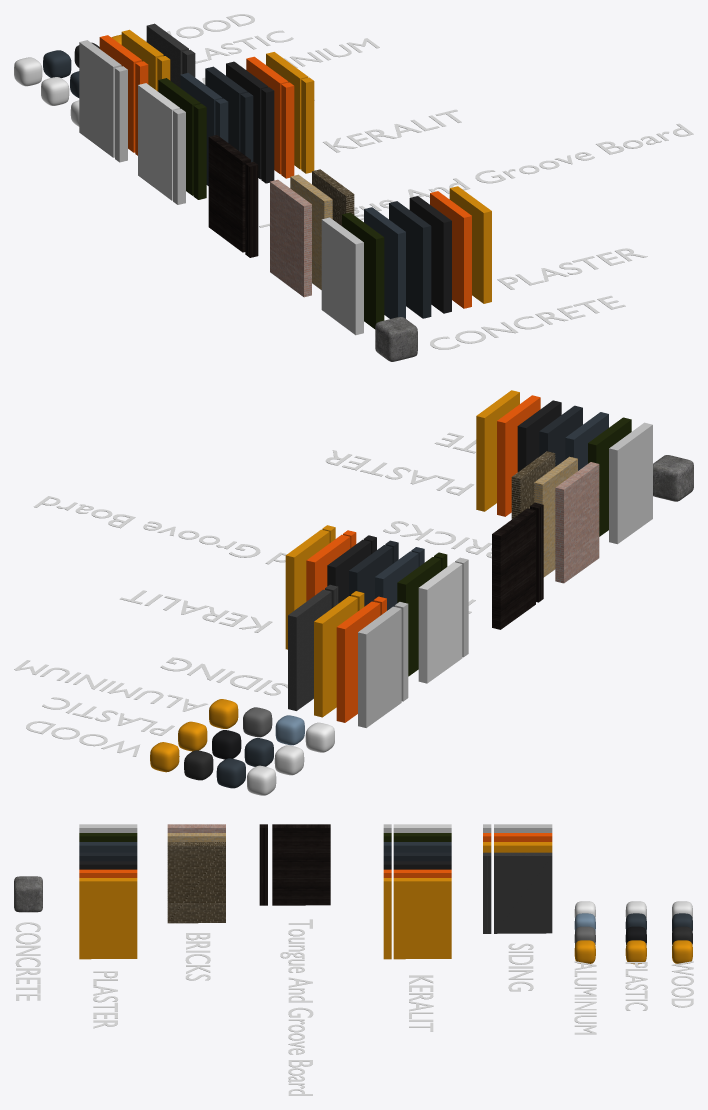
File: Materials1.gltf
The picture shows the model from 3 angles, top to bottom: view 1: azimuth 30°, elevation 25°; view 2: azimuth 150°, elevation 25°; view 3: azimuth 270°, elevation 25°; orthographic projection. The views are drawn at different scales.
Visible parts, largest first — view 1: SM_Keralit_Black.008, SM_Keralit_Black.005, SM_T_TongueGrooveBoard, SM_SidingWhite, SM_Keralit_Black, SM_Keralit_Black.015, SM_Keralit_Black.016, SM_Keralit_Black.014, SM_Keralit_Black.013, SM_Keralit_Black.018, SM_Keralit_Black.017, Text.005 (+29 smaller); view 2: SM_Keralit_Black.005, SM_Keralit_Black, SM_T_TongueGrooveBoard, SM_Keralit_Black.008, SM_SidingWhite, SM_SidingWhite.003, SM_SidingWhite.002, SM_SidingWhite.001, SM_Keralit_Black.018, SM_Keralit_Black.017, SM_Keralit_Black.006, SM_Keralit_Black.012 (+34 smaller); view 3: SM_T_TongueGrooveBoard, SM_SidingWhite.003, SM_Keralit_Black.007, SM_Keralit_Black.012, SM_Keralit_Black.018, Text.005, Concrete, Text.008, Text.002, Text.007, Plane.009, Plane.003 (+26 smaller).
Part boxes in pixels (x1,y1,x2,y2): SM_Keralit_Black.008: (321, 217, 363, 335); SM_Keralit_Black.005: (270, 179, 311, 297); SM_T_TongueGrooveBoard: (208, 135, 250, 252); SM_SidingWhite: (79, 40, 121, 157); SM_Keralit_Black: (138, 83, 180, 200); SM_Keralit_Black.015: (389, 201, 431, 318); SM_Keralit_Black.016: (409, 196, 451, 313); SM_Keralit_Black.014: (364, 207, 405, 318); SM_Keralit_Black.013: (342, 212, 384, 329); SM_Keralit_Black.018: (449, 186, 491, 303); SM_Keralit_Black.017: (430, 191, 471, 308); Text.005: (259, 123, 693, 227); SM_Keralit_Black.005: (555, 462, 599, 583); SM_Keralit_Black: (418, 562, 462, 683); SM_T_TongueGrooveBoard: (492, 508, 535, 629); SM_Keralit_Black.008: (609, 422, 652, 544); SM_SidingWhite: (358, 606, 401, 727); SM_SidingWhite.003: (288, 589, 331, 710); SM_SidingWhite.002: (314, 596, 357, 717); SM_SidingWhite.001: (336, 601, 380, 722); SM_Keralit_Black.018: (476, 390, 519, 511); SM_Keralit_Black.017: (497, 395, 540, 516); SM_Keralit_Black.006: (534, 456, 577, 577); SM_Keralit_Black.012: (285, 529, 329, 649); SM_T_TongueGrooveBoard: (272, 824, 330, 905); SM_SidingWhite.003: (494, 852, 552, 933); SM_Keralit_Black.007: (167, 842, 225, 923); SM_Keralit_Black.012: (393, 878, 451, 959); SM_Keralit_Black.018: (79, 878, 137, 959); Text.005: (280, 919, 313, 1095); Concrete: (14, 876, 42, 912); Text.008: (15, 922, 40, 1000); Text.002: (574, 961, 596, 1034); Text.007: (93, 971, 118, 1028); Plane.009: (259, 824, 267, 905); Plane.003: (483, 852, 491, 933).
Size of the model in its own units: 15.76 by 3.33 by 23.37.
47 materials, 15 textured.
